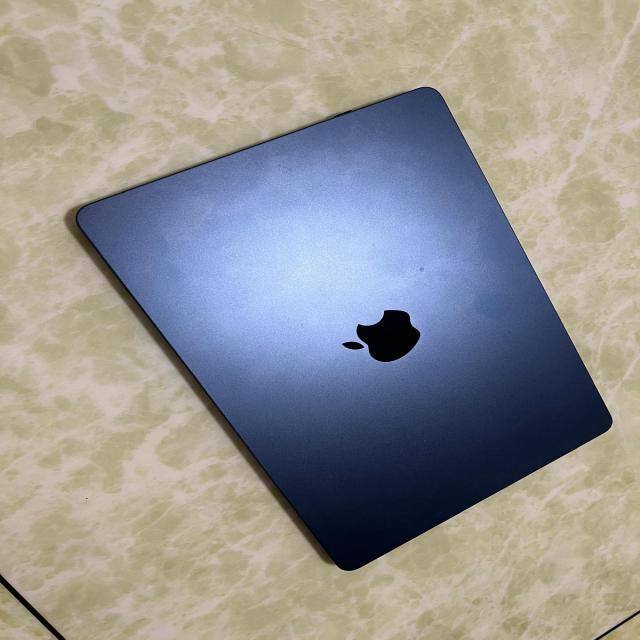laptop: (74, 84, 613, 571)
